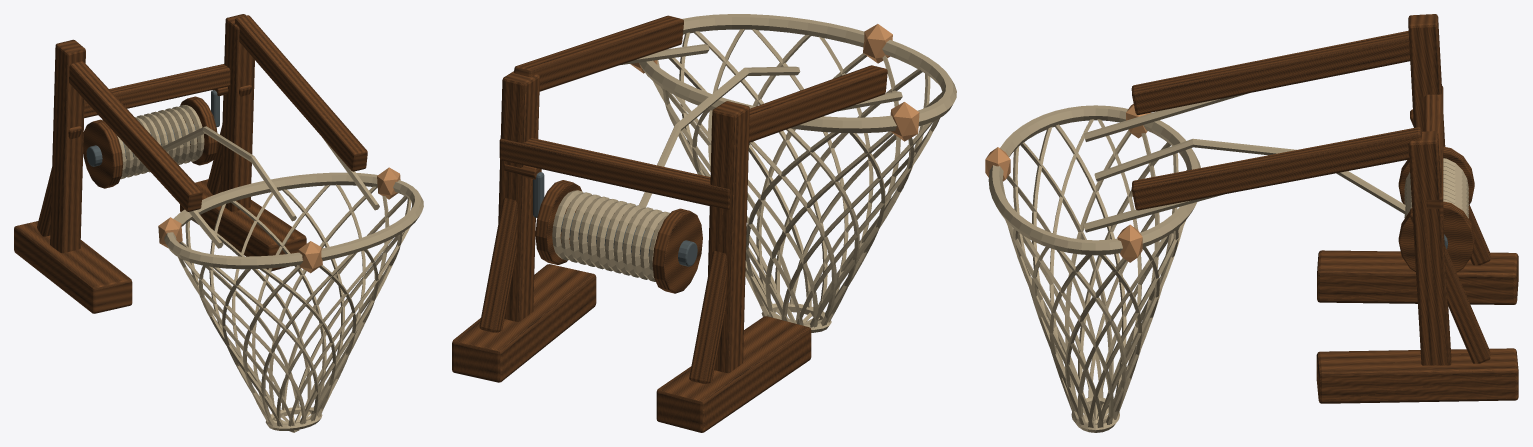
File: fishingNet.glb
3 views of the same model, side by side, from view 1: azimuth 30°, elevation 25°; view 2: azimuth 150°, elevation 25°; view 3: azimuth 270°, elevation 25° (orthographic). The views are drawn at different scales.
Parts seen in each view (by area): view 1: GEO-fishingNet-hemp, GEO-fishingNet-Wood-dark, GEO-fishingNet-Wood-warm, GEO-fishingNet-Wood-grey, GEO-fishingNet-cork, GEO-fishingNet-iron; view 2: GEO-fishingNet-hemp, GEO-fishingNet-Wood-dark, GEO-fishingNet-Wood-warm, GEO-fishingNet-Wood-grey, GEO-fishingNet-cork, GEO-fishingNet-iron; view 3: GEO-fishingNet-hemp, GEO-fishingNet-Wood-dark, GEO-fishingNet-Wood-warm, GEO-fishingNet-Wood-grey, GEO-fishingNet-cork.
Boxes of the visible parts, x1,y1,x2,y2 form: GEO-fishingNet-hemp: (117,105,423,432); GEO-fishingNet-Wood-dark: (14,85,306,313); GEO-fishingNet-Wood-warm: (69,15,367,211); GEO-fishingNet-Wood-grey: (50,14,254,253); GEO-fishingNet-cork: (158,167,400,273); GEO-fishingNet-iron: (86,90,219,166); GEO-fishingNet-hemp: (552,14,956,332); GEO-fishingNet-Wood-dark: (452,180,811,432); GEO-fishingNet-Wood-warm: (499,15,887,209); GEO-fishingNet-Wood-grey: (498,71,749,373); GEO-fishingNet-cork: (630,24,919,141); GEO-fishingNet-iron: (533,172,697,266); GEO-fishingNet-hemp: (988,93,1468,432); GEO-fishingNet-Wood-dark: (1316,109,1518,403); GEO-fishingNet-Wood-warm: (1131,30,1443,223); GEO-fishingNet-Wood-grey: (1408,14,1451,365); GEO-fishingNet-cork: (985,104,1150,262).
Bounding box in the file's own units: 1.13 × 1.37 × 1.81.
Materials: 6 (3 with a texture image).
